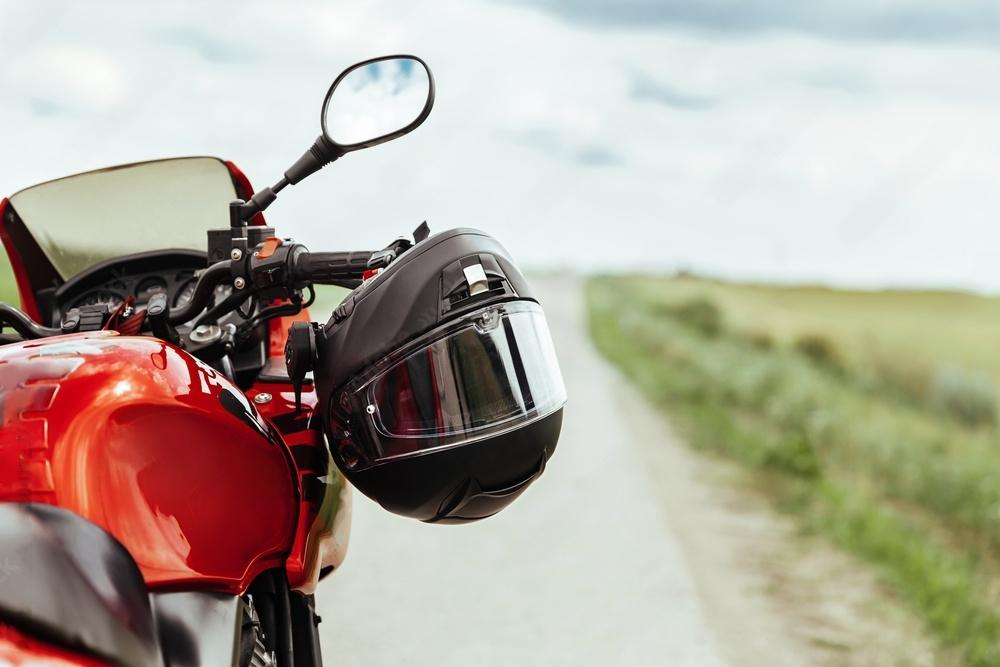helmet: (283, 223, 570, 527)
